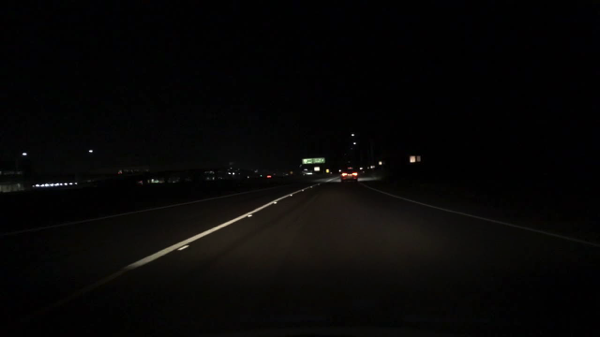car: (339, 167, 357, 182)
traffic sign: (312, 157, 324, 164), (302, 159, 313, 164), (416, 155, 421, 162), (411, 156, 415, 163), (315, 167, 319, 172), (325, 169, 330, 173), (379, 162, 383, 166)
